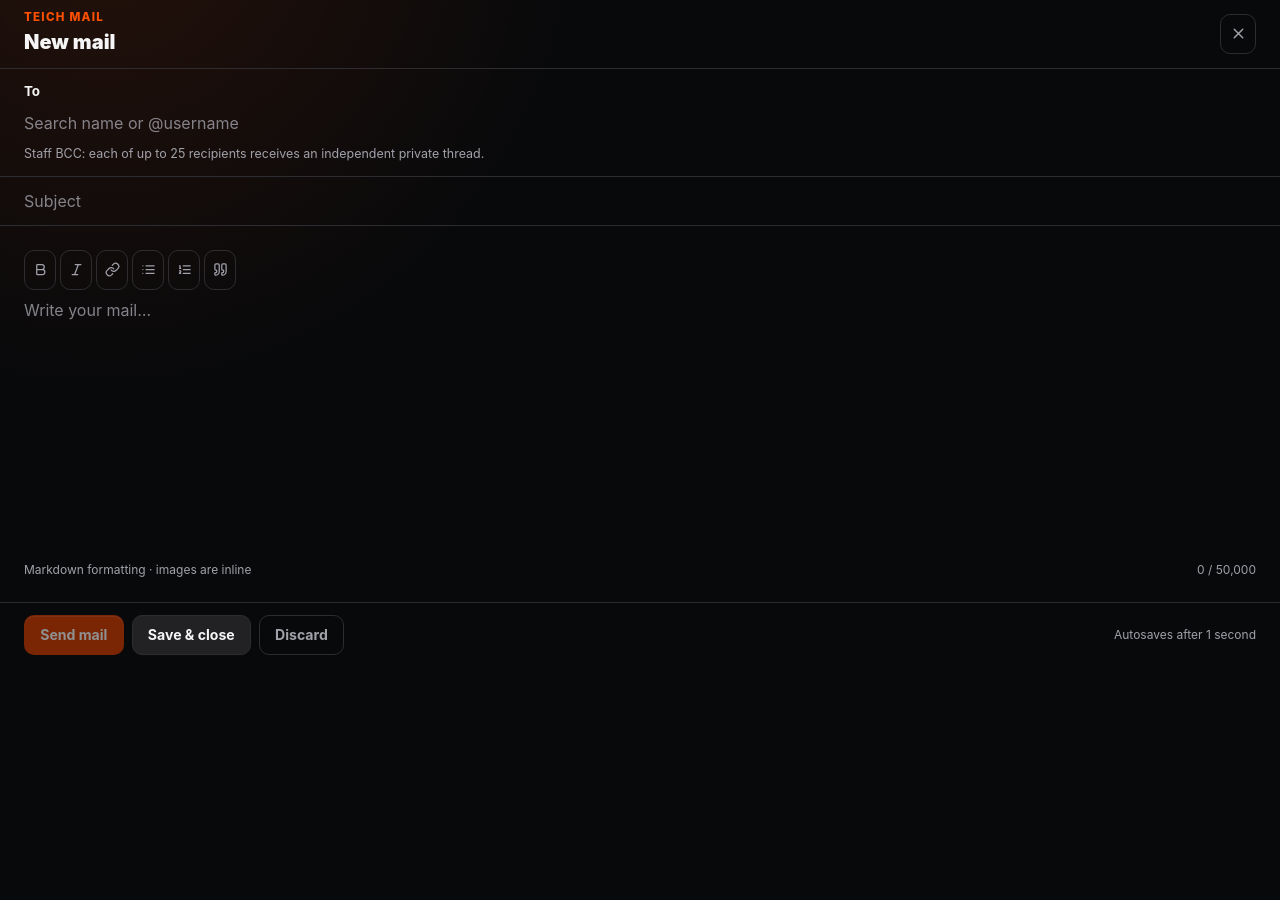
Scenario: MailComposer › reports empty and failed searches without leaving stale results visible
Type "old" into the dropdown labelled "To".
click(640, 123); type("old")  # box [24,107,1256,139]
Wait 250 ms
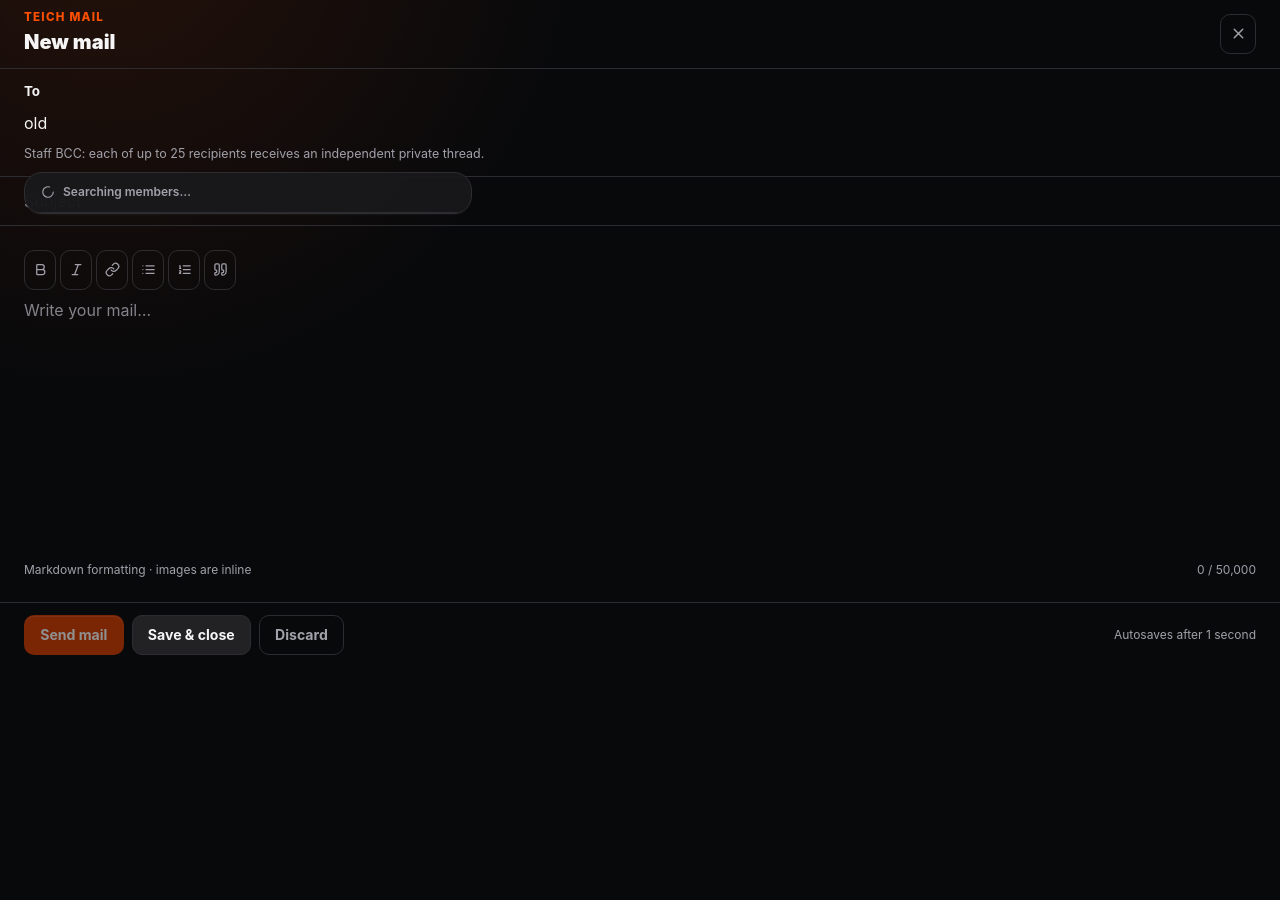
Replace the text in the dropdown labelled "To" with "new" at x=640, y=123, box [24,107,1256,139]
Wait 250 ms
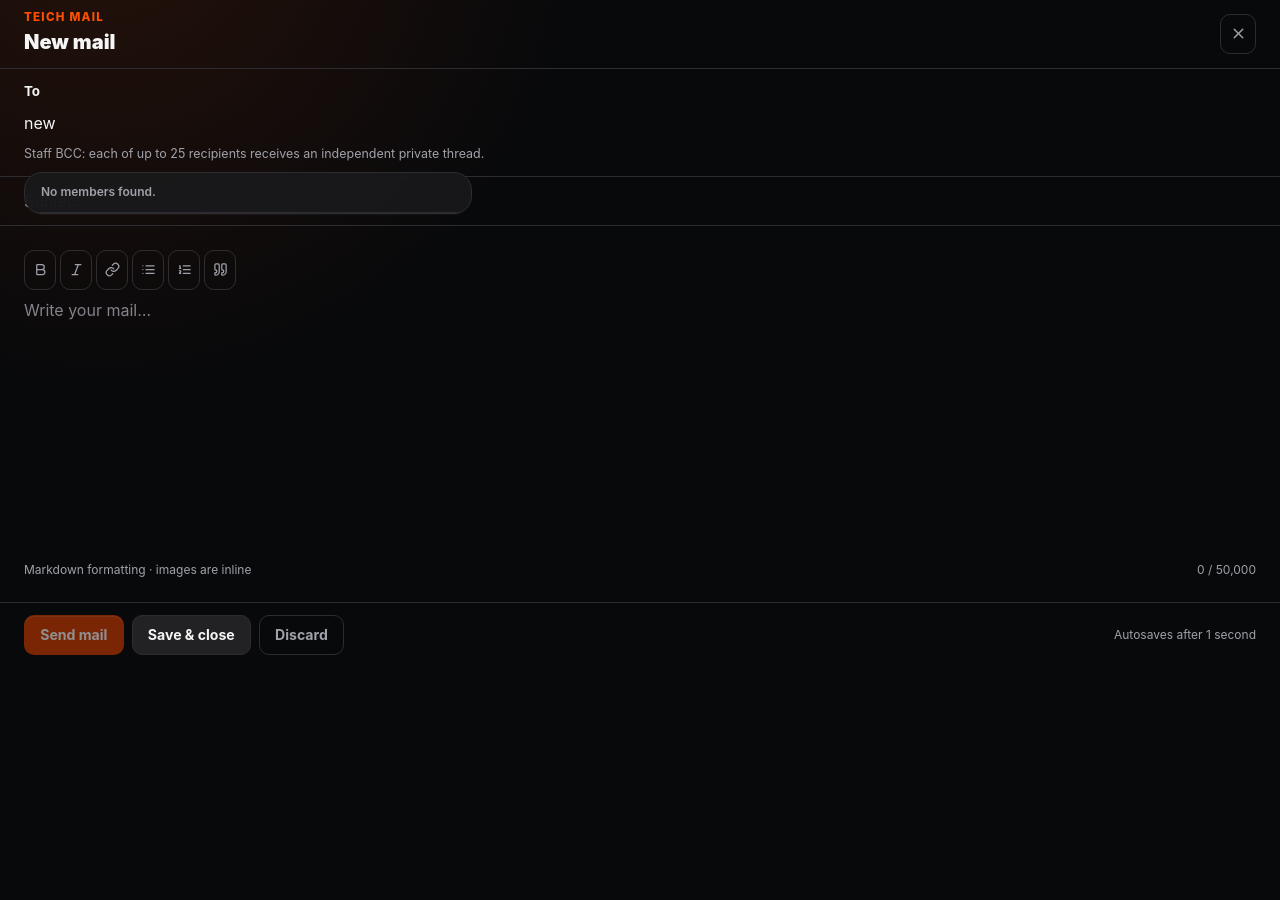
expect the text "No members found." is shown: met, box [25,173,471,213]
Replace the text in the dropdown labelled "To" with "fail" at x=640, y=123, box [24,107,1256,139]
Wait 250 ms
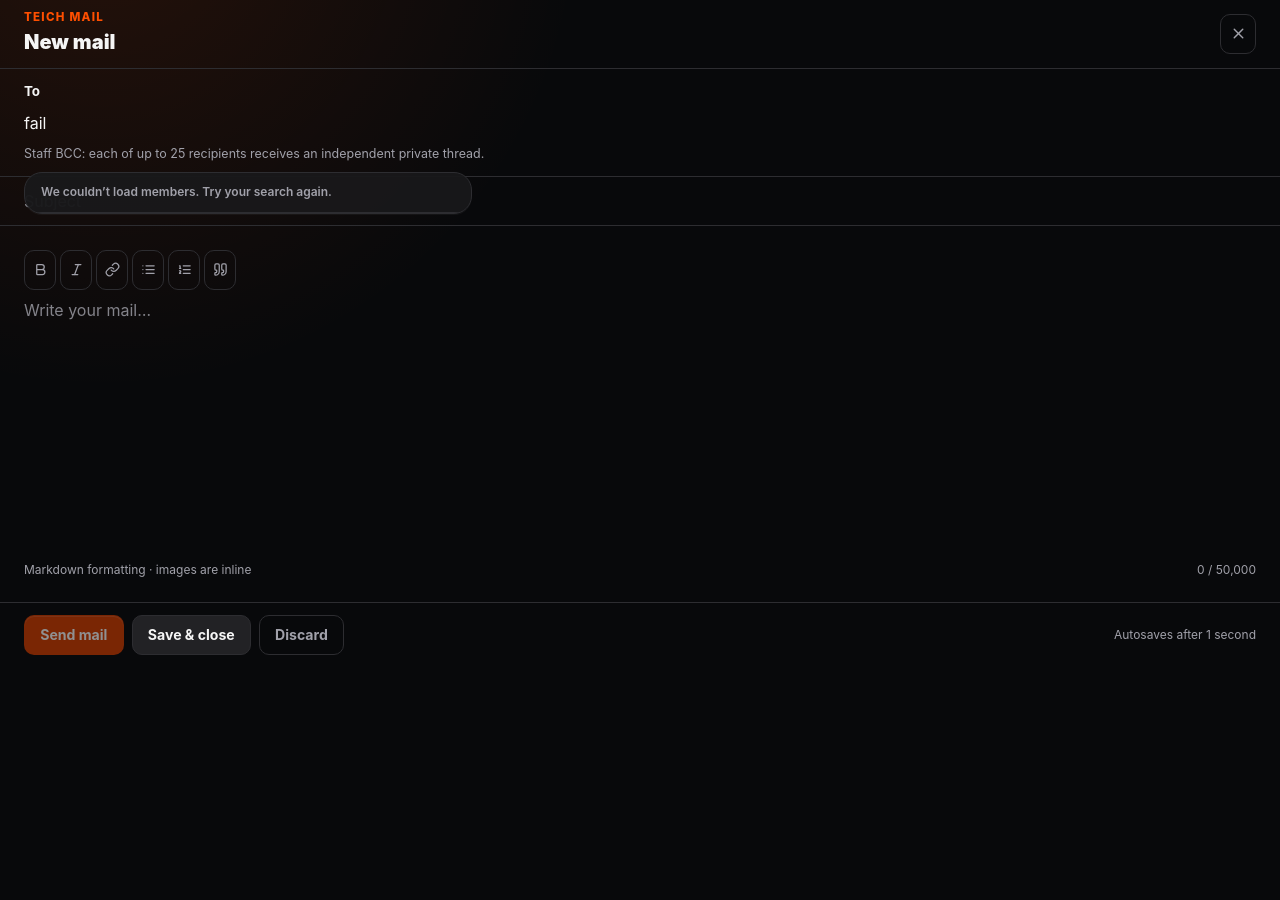
expect the text "We couldn’t load members. Try your search again." is shown: met, box [25,173,471,213]
